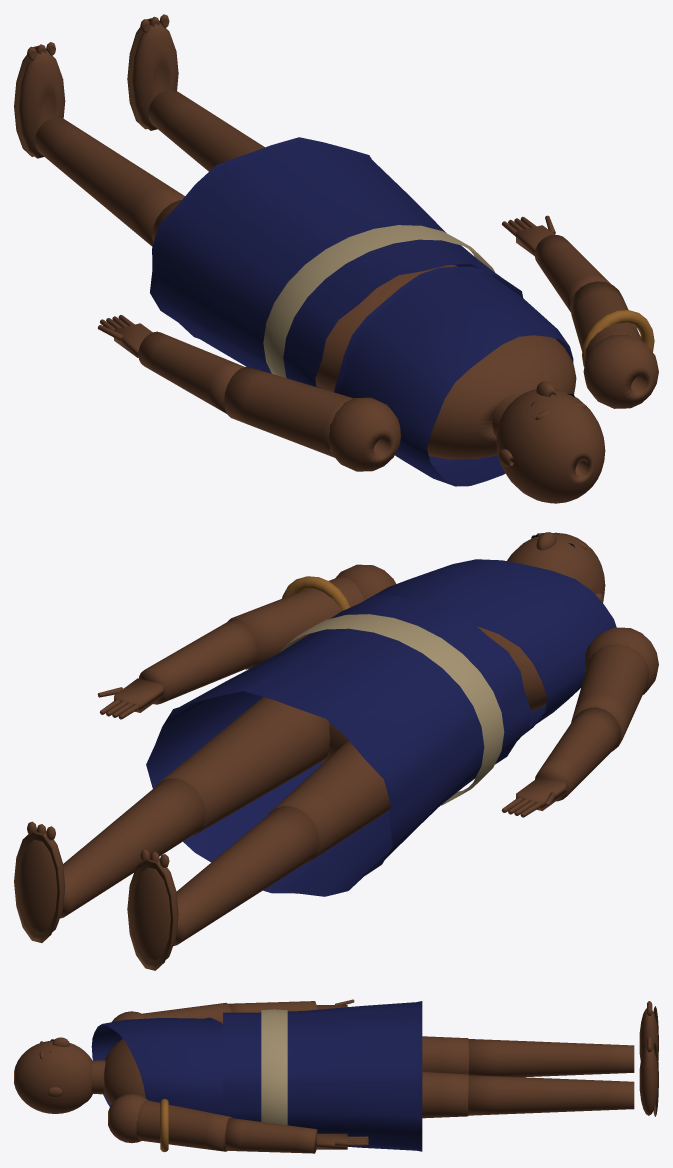
File: GUARD_CLASS_V3.obj
The picture shows the model from 3 angles, top to bottom: view 1: azimuth 30°, elevation 25°; view 2: azimuth 150°, elevation 25°; view 3: azimuth 270°, elevation 25°; orthographic projection. The views are drawn at different scales.
Visible parts, largest first — view 1: skirt_wrap_indigo, wrap_oneshoulder_indigo, shin_sandal.L, upperarm.L, head_generic, torso_upper, shin_sandal.R, upperarm.R, waist_sash_plain, forearm_hand.L, forearm_hand.R, pelvis_lower (+1 smaller); view 2: skirt_wrap_indigo, wrap_oneshoulder_indigo, shin_sandal.L, shin_sandal.R, thigh.R, forearm_hand.R, thigh.L, waist_sash_plain, upperarm.L, upperarm.R, forearm_hand.L, head_generic (+4 smaller); view 3: skirt_wrap_indigo, wrap_oneshoulder_indigo, shin_sandal.R, shin_sandal.L, head_generic, upperarm.R, forearm_hand.R, waist_sash_plain, thigh.R, torso_upper, thigh.L, upperarm.L (+2 smaller).
Part boxes in pixels (bbox=[...]): skirt_wrap_indigo: bbox=[150, 137, 522, 388]; wrap_oneshoulder_indigo: bbox=[334, 266, 573, 486]; shin_sandal.L: bbox=[19, 42, 184, 246]; upperarm.L: bbox=[224, 366, 400, 471]; head_generic: bbox=[492, 389, 605, 503]; torso_upper: bbox=[427, 335, 576, 459]; shin_sandal.R: bbox=[132, 14, 264, 171]; upperarm.R: bbox=[570, 281, 658, 408]; waist_sash_plain: bbox=[263, 225, 494, 378]; forearm_hand.L: bbox=[98, 315, 244, 413]; forearm_hand.R: bbox=[502, 215, 611, 312]; pelvis_lower: bbox=[315, 265, 457, 392]; skirt_wrap_indigo: bbox=[146, 595, 531, 896]; wrap_oneshoulder_indigo: bbox=[363, 559, 616, 734]; shin_sandal.L: bbox=[133, 806, 319, 959]; shin_sandal.R: bbox=[19, 778, 205, 932]; thigh.R: bbox=[156, 697, 330, 835]; forearm_hand.R: bbox=[97, 619, 257, 719]; thigh.L: bbox=[268, 740, 390, 862]; waist_sash_plain: bbox=[279, 614, 504, 805]; upperarm.L: bbox=[571, 627, 658, 751]; upperarm.R: bbox=[227, 564, 395, 669]; forearm_hand.L: bbox=[501, 707, 620, 817]; head_generic: bbox=[507, 532, 605, 598]; skirt_wrap_indigo: bbox=[223, 1001, 422, 1151]; wrap_oneshoulder_indigo: bbox=[91, 1017, 222, 1115]; shin_sandal.R: bbox=[468, 1037, 658, 1115]; shin_sandal.L: bbox=[468, 1001, 658, 1077]; head_generic: bbox=[14, 1040, 105, 1113]; upperarm.R: bbox=[108, 1094, 232, 1151]; forearm_hand.R: bbox=[225, 1118, 368, 1153]; waist_sash_plain: bbox=[261, 1009, 287, 1125]; thigh.R: bbox=[422, 1071, 468, 1118]; torso_upper: bbox=[102, 1039, 145, 1104]; thigh.L: bbox=[422, 1036, 468, 1074]; upperarm.L: bbox=[112, 1003, 232, 1023].
Size of the model in its own units: 0.9412 by 0.3884 by 1.77.
